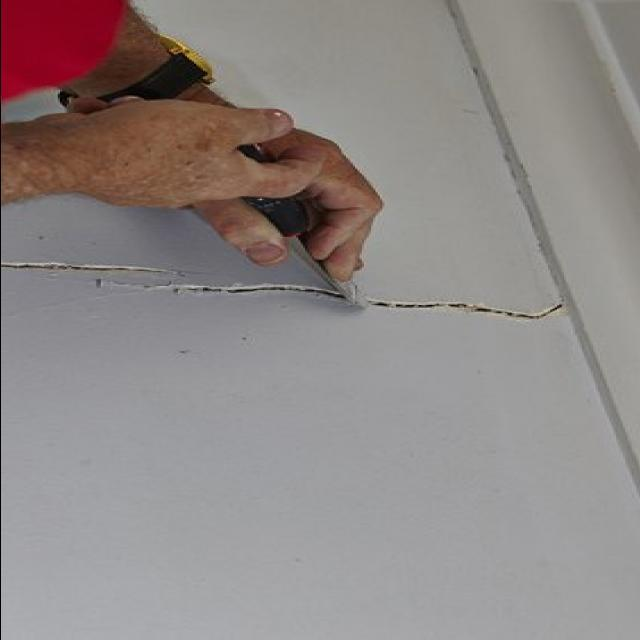wall_crack: (364, 290, 565, 322), (116, 279, 349, 303), (2, 260, 179, 275)
